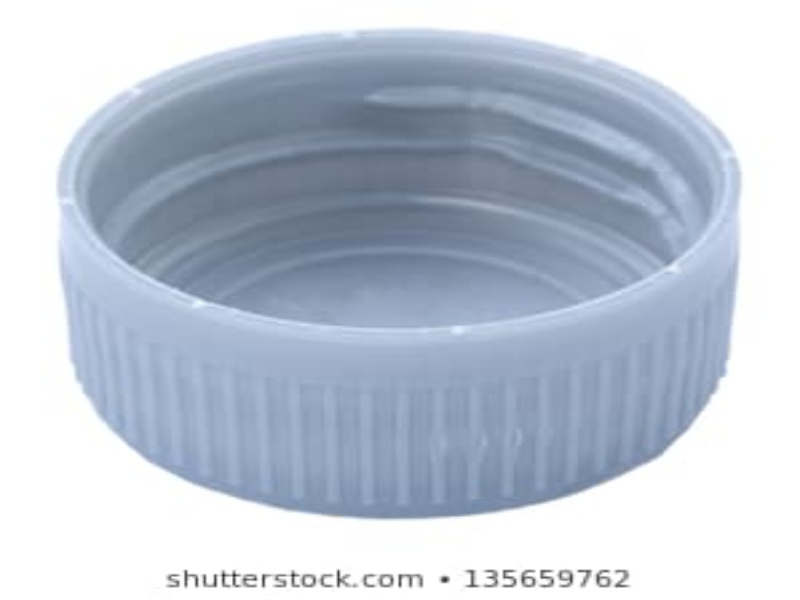bottle-cap: (56, 25, 744, 522)
